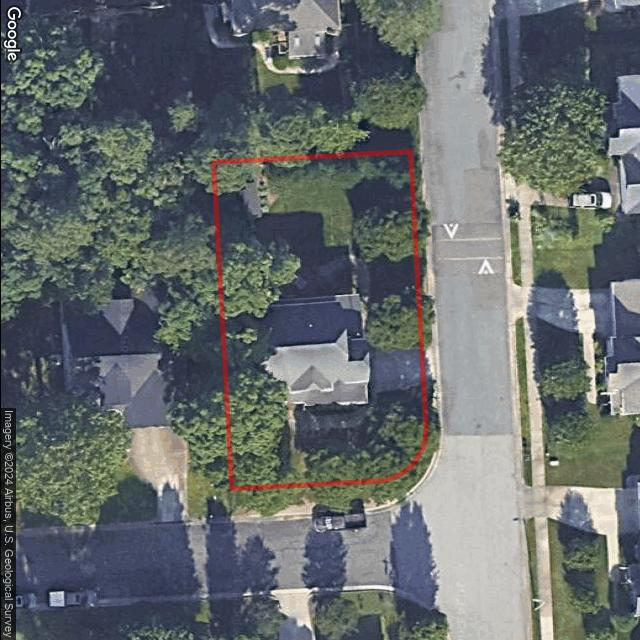Driveway: (370, 348, 423, 393)
Extra-Driveway: (421, 341, 434, 383)
Extra-Lawn: (229, 382, 438, 512), (408, 150, 431, 352)
House: (250, 292, 369, 406)
Lawn: (212, 151, 425, 490)
Other: (226, 175, 261, 222), (312, 404, 363, 415)
Sidewalk: (302, 394, 377, 437)
